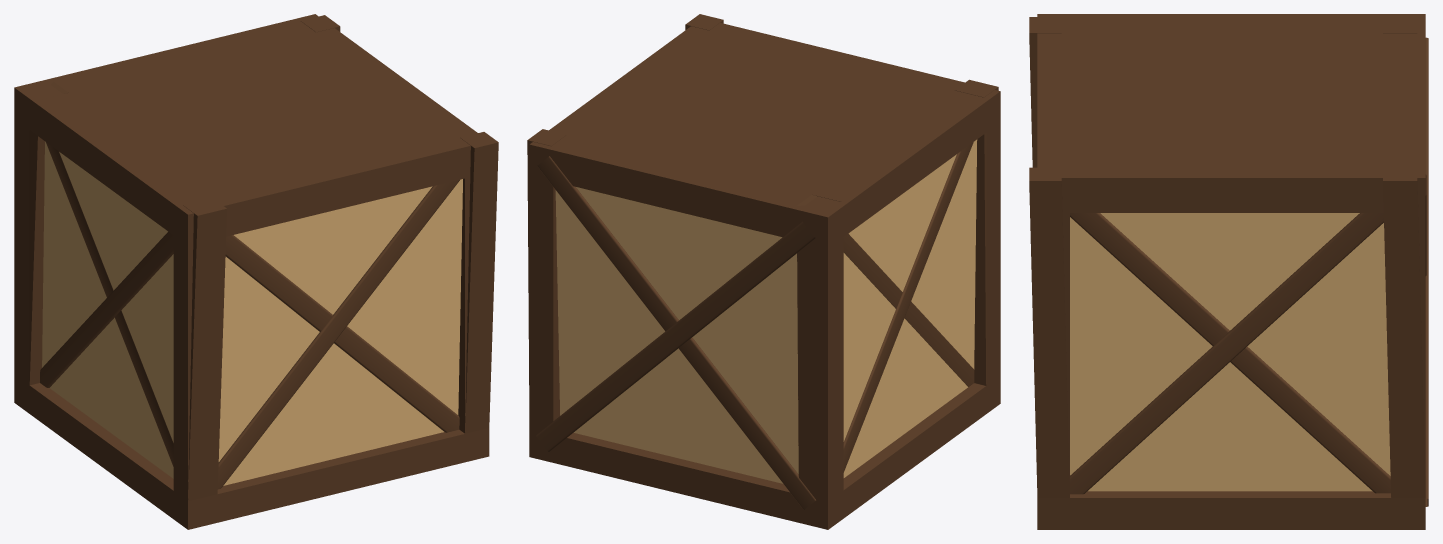
The picture shows the model from 3 angles, left to right: view 1: azimuth 30°, elevation 25°; view 2: azimuth 150°, elevation 25°; view 3: azimuth 270°, elevation 25°; orthographic projection. The views are drawn at different scales.
Visible parts, largest first — view 1: 立方体.278; view 2: 立方体.278; view 3: 立方体.278.
Part boxes in pixels (box(x1,y1,x2,y2)): 立方体.278: box(14, 14, 498, 529); 立方体.278: box(527, 14, 1000, 529); 立方体.278: box(1029, 14, 1428, 529).
Bounding box in the file's own units: 1610 × 1595 × 1566.
